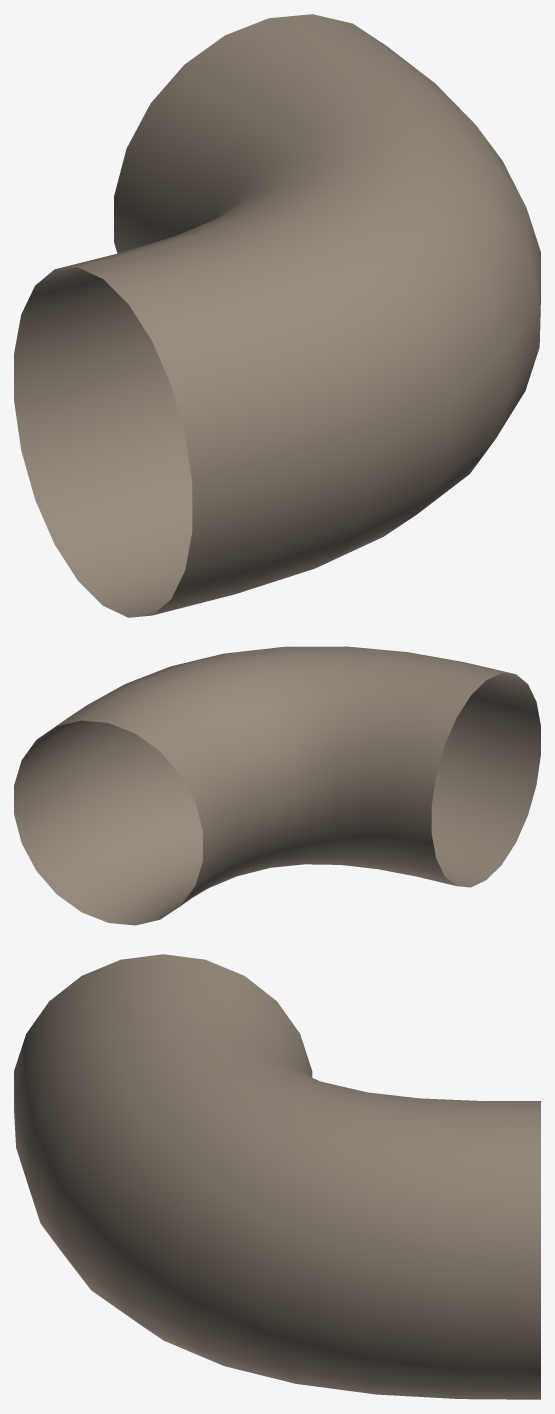
File: mesh_TileCurvaL.fbx
The picture shows the model from 3 angles, top to bottom: view 1: azimuth 30°, elevation 25°; view 2: azimuth 150°, elevation 25°; view 3: azimuth 270°, elevation 25°; orthographic projection. The views are drawn at different scales.
Visible parts, largest first — view 1: mesh_TileCurvaL; view 2: mesh_TileCurvaL; view 3: mesh_TileCurvaL.
Part boxes in pixels (x1=…): mesh_TileCurvaL: x1=14, y1=14, x2=540, y2=617; mesh_TileCurvaL: x1=14, y1=646, x2=540, y2=925; mesh_TileCurvaL: x1=14, y1=954, x2=540, y2=1399.
Bounding box in the file's own units: 2766 × 1582 × 2766.
